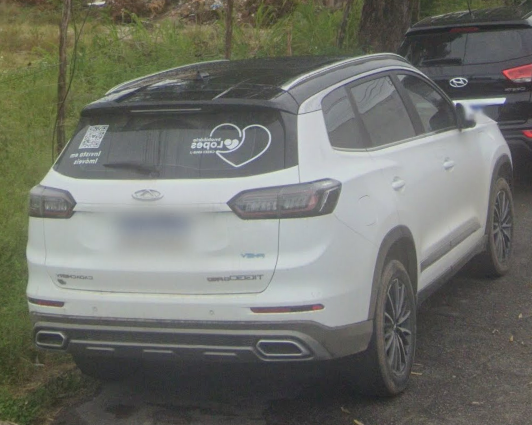car: (25, 57, 518, 400)
